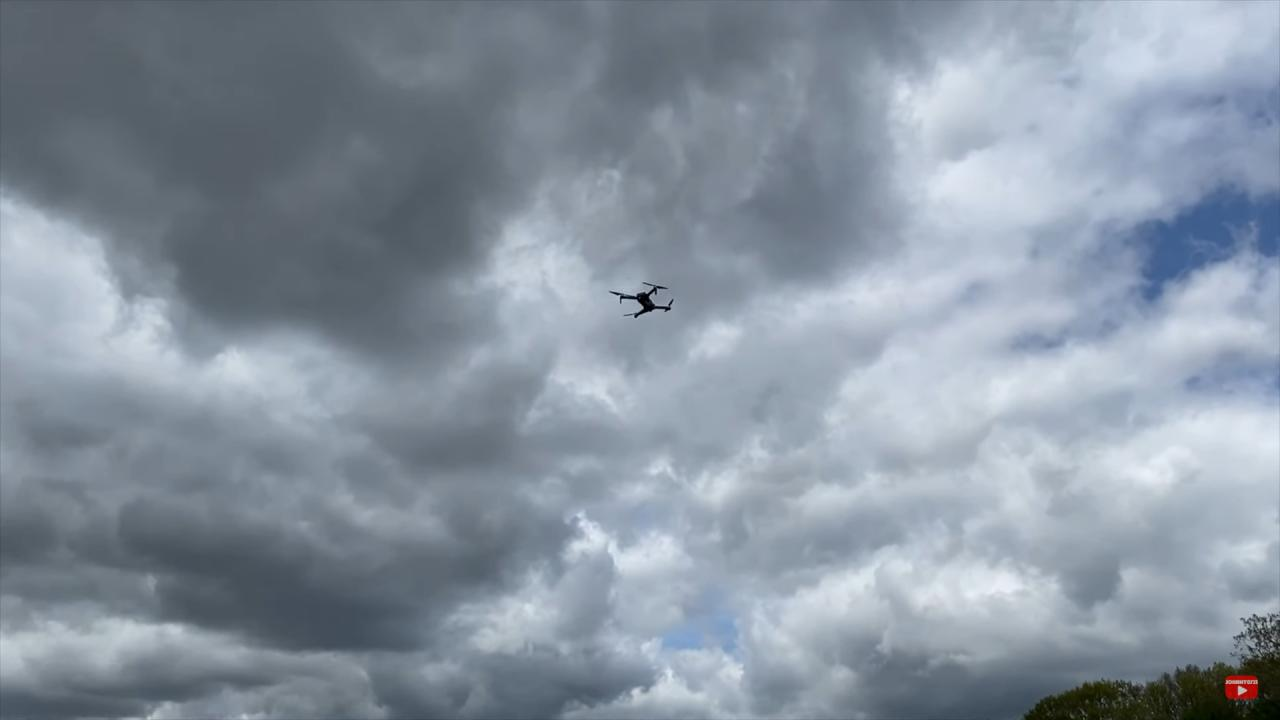Drone: (601, 273, 686, 330)
